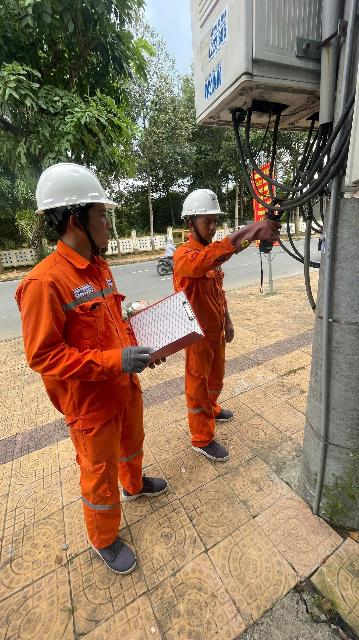gloves: (219, 221, 296, 256), (117, 343, 164, 372)
helmet: (16, 163, 123, 214), (184, 185, 228, 220)
shoes: (79, 519, 141, 575), (190, 426, 235, 465), (125, 470, 175, 502), (200, 401, 240, 423)
